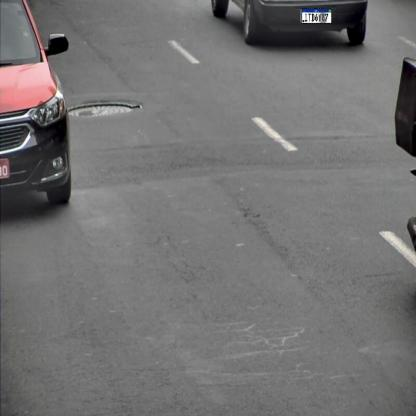PlacaM: (302, 8, 332, 24)
